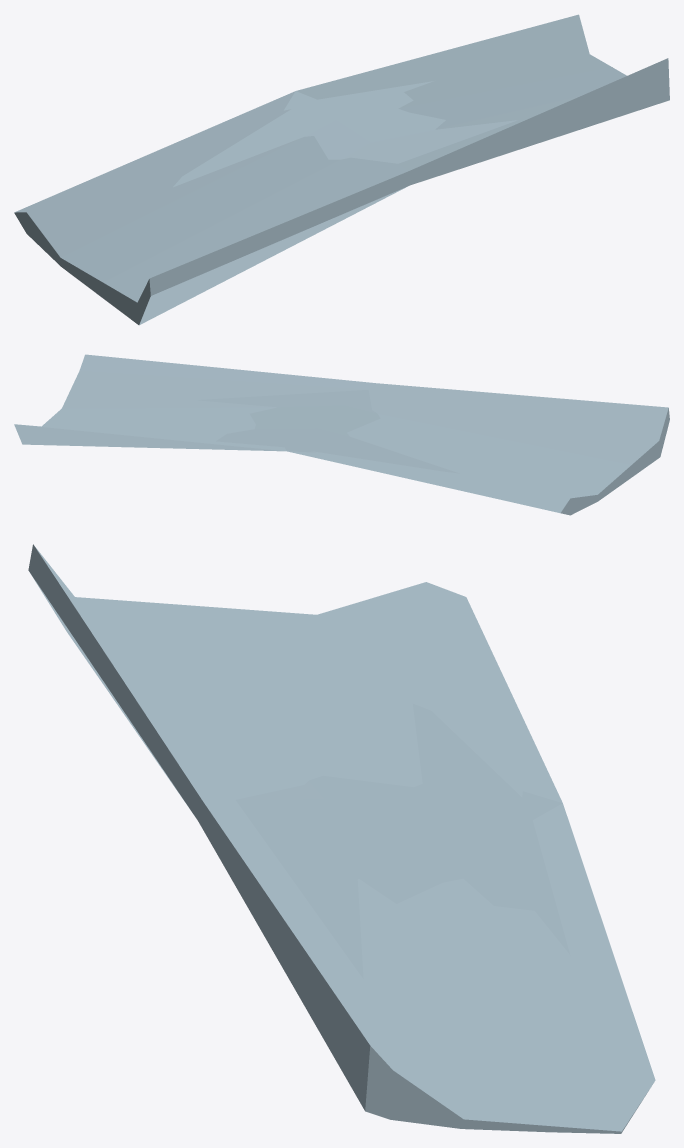
The model's file is su33d_aileron_left.glb.
The picture shows the model from 3 angles, top to bottom: view 1: azimuth 30°, elevation 25°; view 2: azimuth 150°, elevation 25°; view 3: azimuth 270°, elevation 25°; orthographic projection. The views are drawn at different scales.
Parts seen in each view (by area): view 1: 0_AileronLeft; view 2: 0_AileronLeft; view 3: 0_AileronLeft.
Part boxes in pixels (box(x1,y1,x2,y2)): 0_AileronLeft: box(14, 14, 669, 325); 0_AileronLeft: box(14, 354, 669, 515); 0_AileronLeft: box(28, 544, 655, 1133).
Bounding box in the file's own units: 1.75 × 0.1716 × 0.9501.
